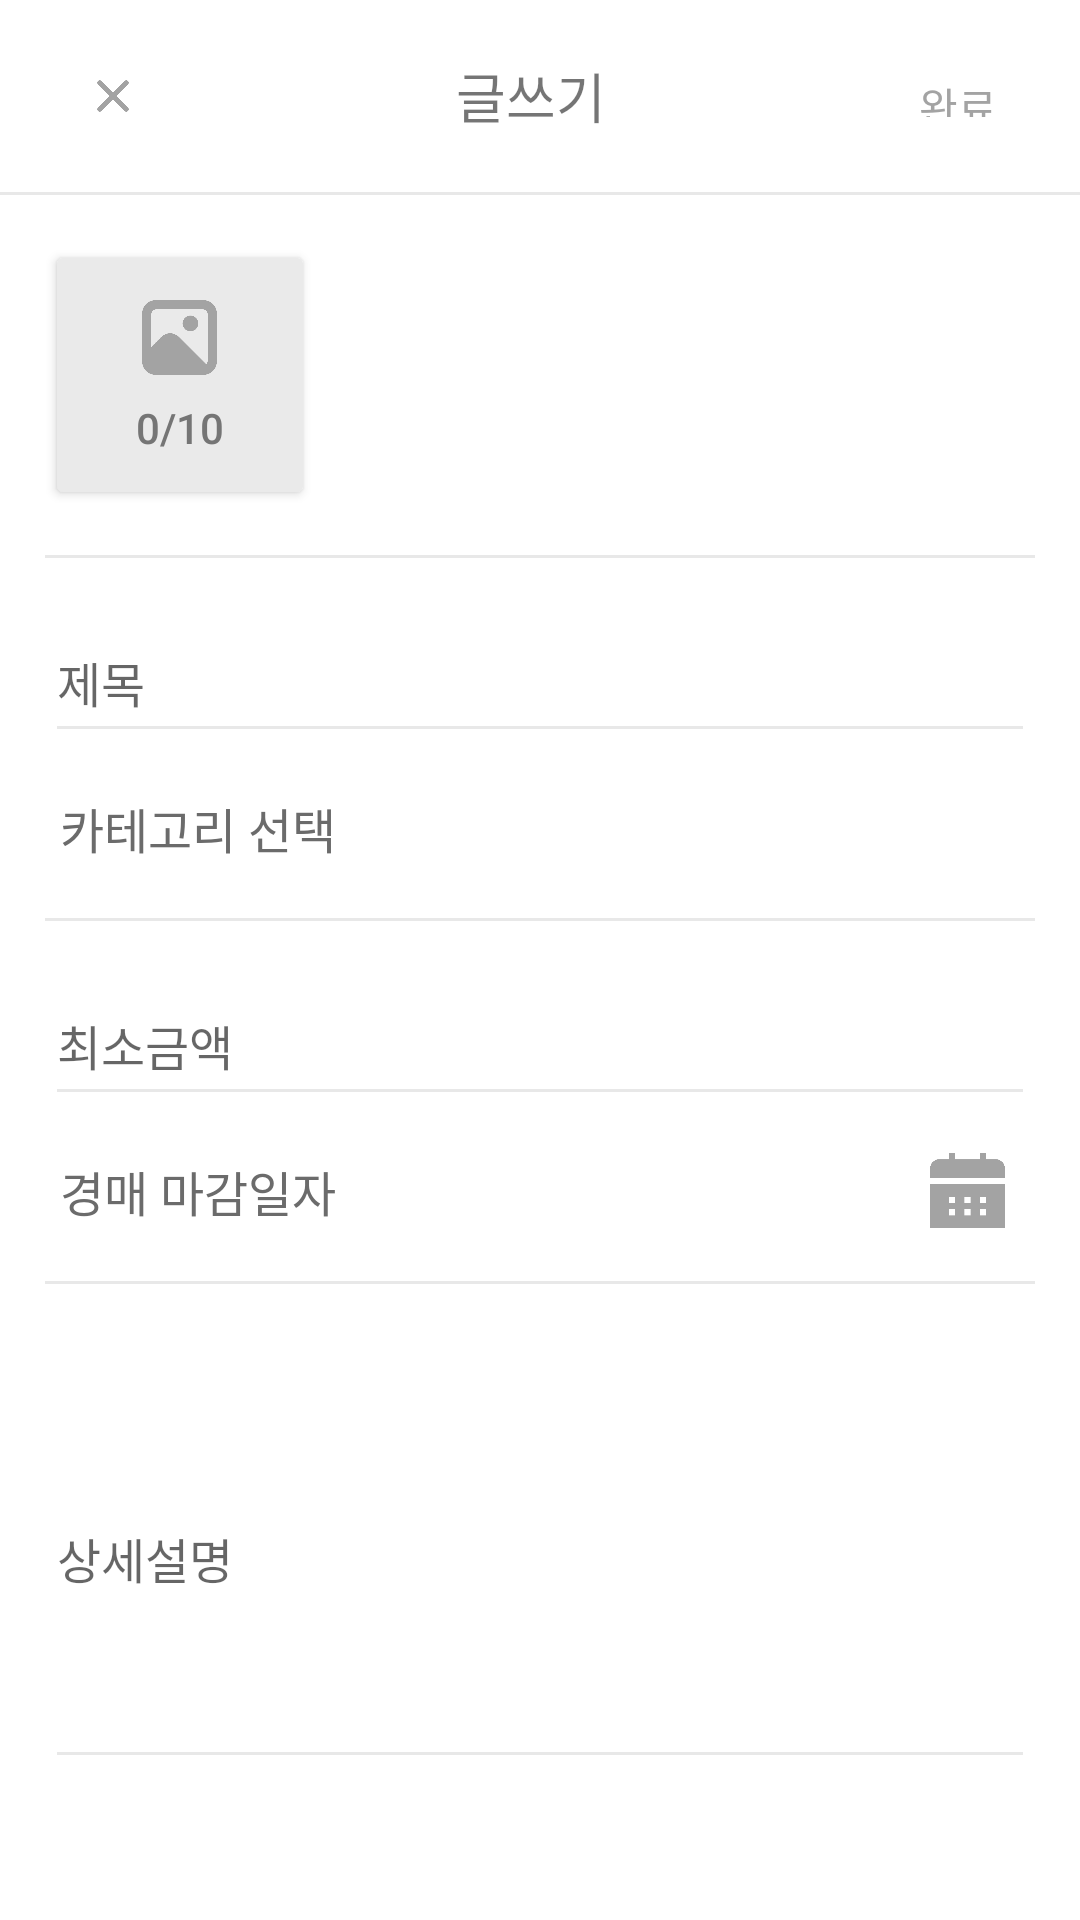

Icon bounding boxes for this 1080×1920 phone screenshot, format {"x1": x1, "y1": y1, "x2": x2, "y2": y2}:
calendar: {"x1": 930, "y1": 1153, "x2": 1005, "y2": 1228}
cross: {"x1": 97, "y1": 80, "x2": 129, "y2": 112}
